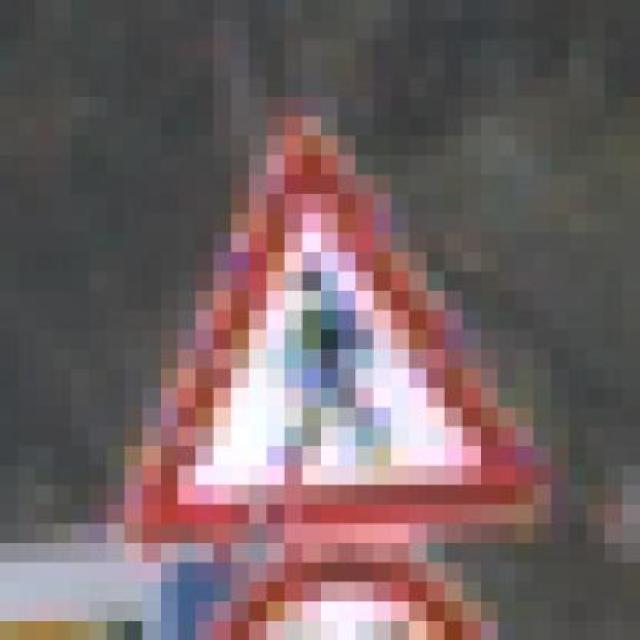Pedestrian Crossing: (96, 97, 558, 543)
